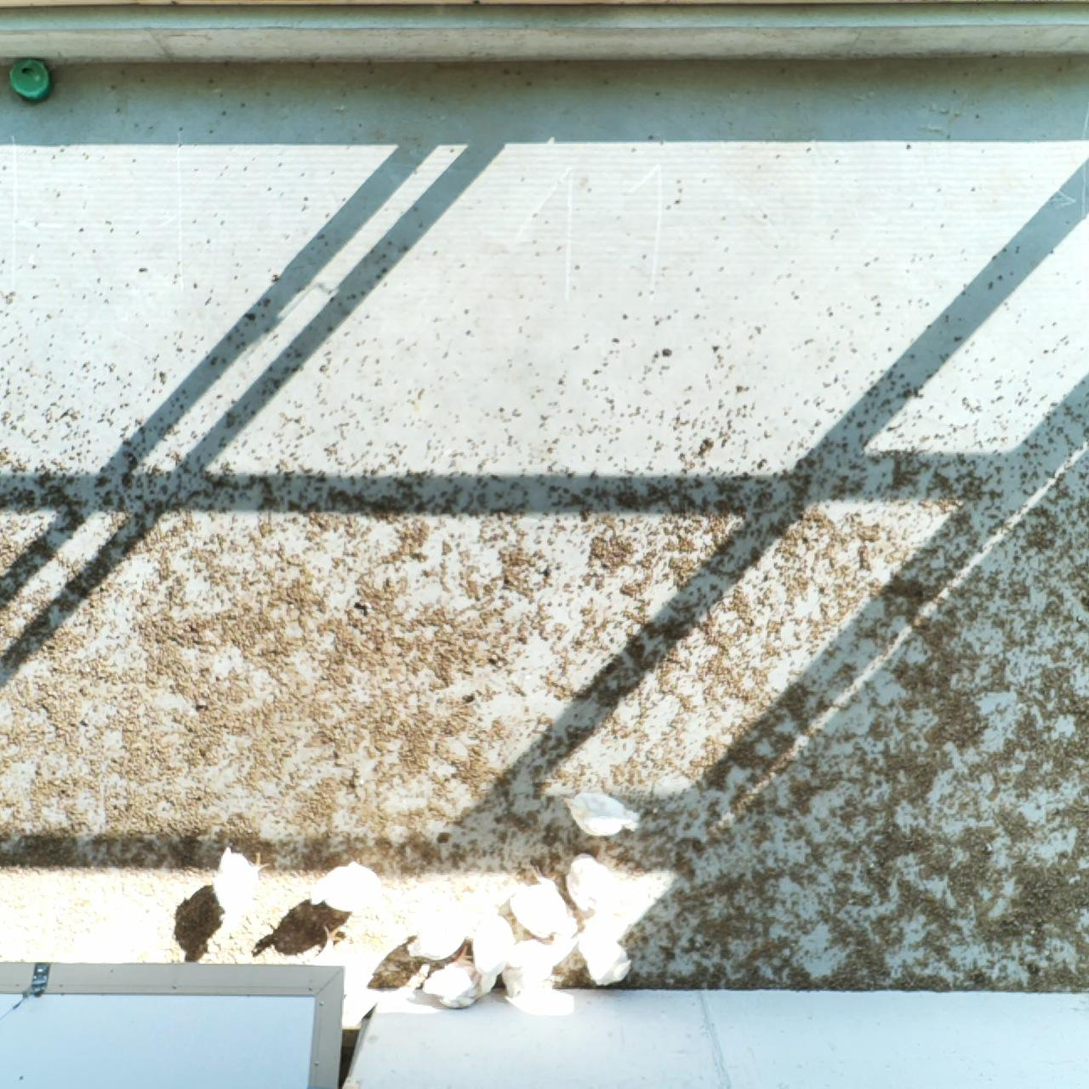chicken: (504, 863, 580, 941), (306, 856, 387, 916), (212, 844, 273, 919), (562, 849, 629, 917), (422, 941, 487, 1011), (406, 895, 470, 963), (471, 906, 517, 995), (560, 788, 640, 838), (500, 939, 564, 999), (315, 923, 366, 993), (579, 926, 636, 986)
